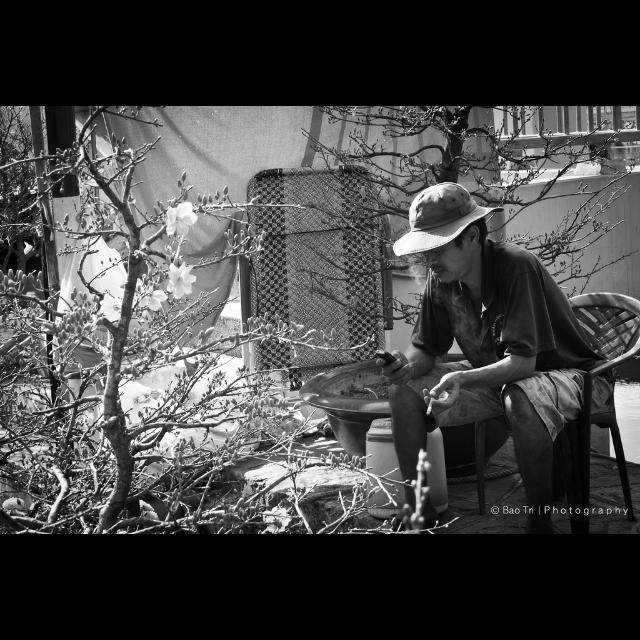Flower: (163, 200, 191, 238), (135, 279, 167, 311), (171, 262, 193, 300), (262, 504, 290, 532), (99, 290, 123, 320), (1, 498, 26, 512), (488, 182, 504, 200)
